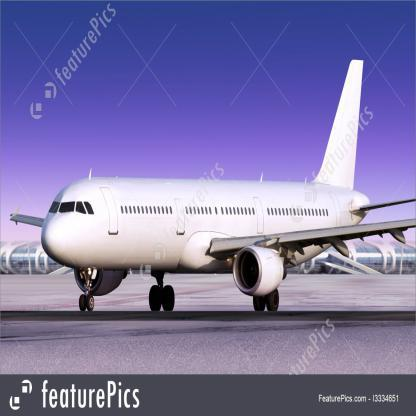CIV_Plane: (8, 55, 416, 318)
